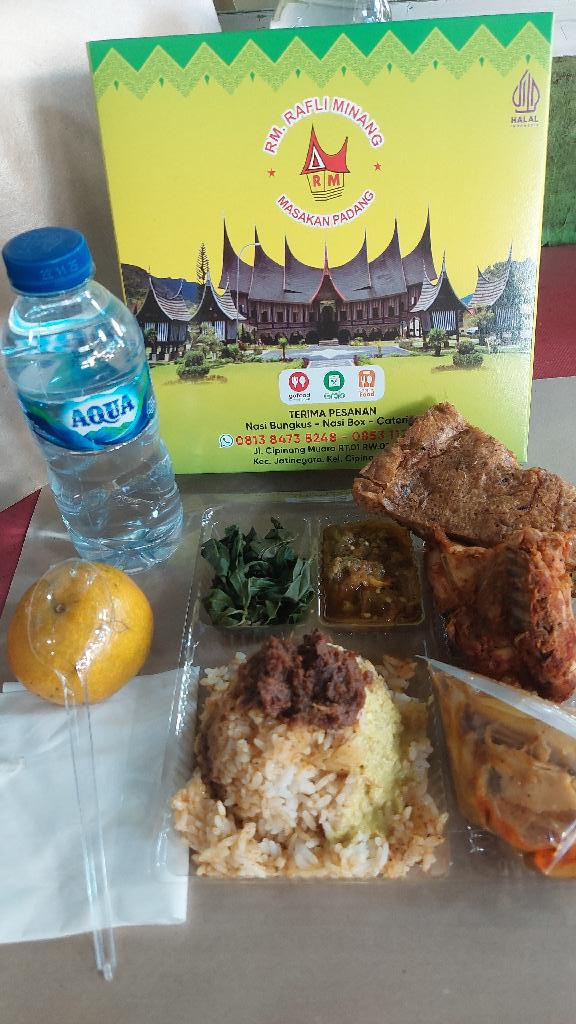buah_sayur_lainnya: (468, 720, 558, 841), (221, 534, 293, 605), (336, 531, 385, 596)
buah_sayur_vitA: (28, 586, 130, 684)
daging: (450, 551, 551, 645), (411, 461, 528, 514)
makanan_berpati: (233, 652, 407, 862)
